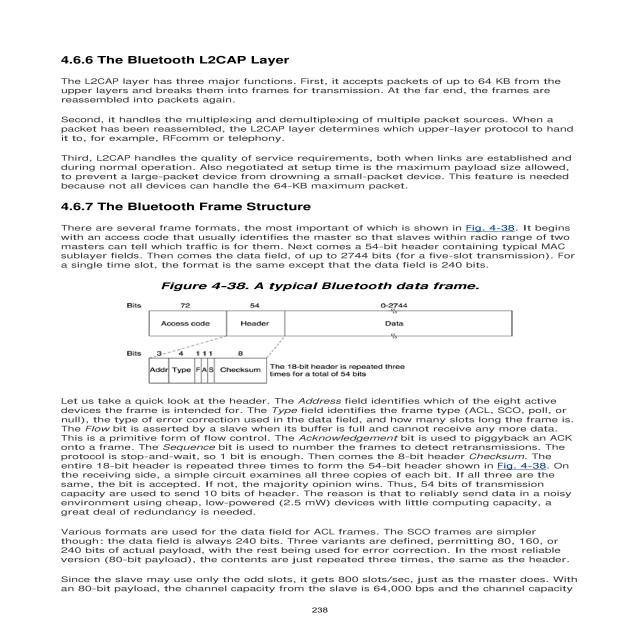diagram: (90, 272, 586, 383)
